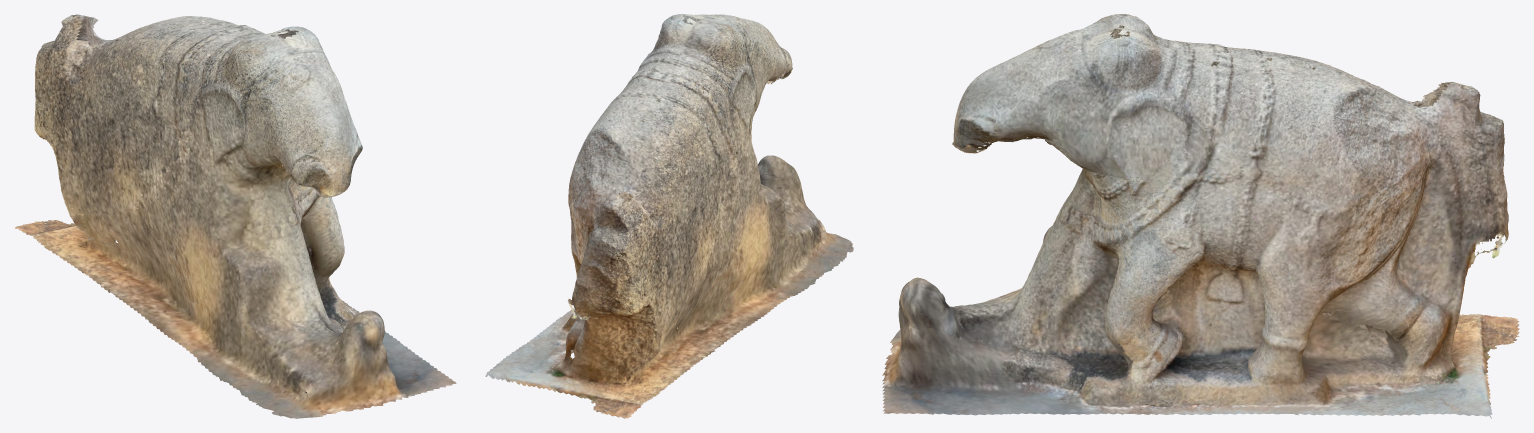
Rendered from hampi-elephant.glb.
3 views of the same model, side by side, from view 1: azimuth 30°, elevation 25°; view 2: azimuth 150°, elevation 25°; view 3: azimuth 270°, elevation 25° (orthographic). The views are drawn at different scales.
Visible parts, largest first — view 1: Object_2, Object_3; view 2: Object_3, Object_2; view 3: Object_3, Object_2.
Part boxes in pixels (x1,y1,x2,y2): Object_2: (15,14,456,418); Object_3: (32,16,354,404); Object_3: (513,14,841,414); Object_2: (485,14,853,418); Object_3: (957,14,1519,415); Object_2: (882,27,1519,418).
Size of the model in its own units: 0.1753 by 0.2882 by 0.48.
1 material, 1 textured.
